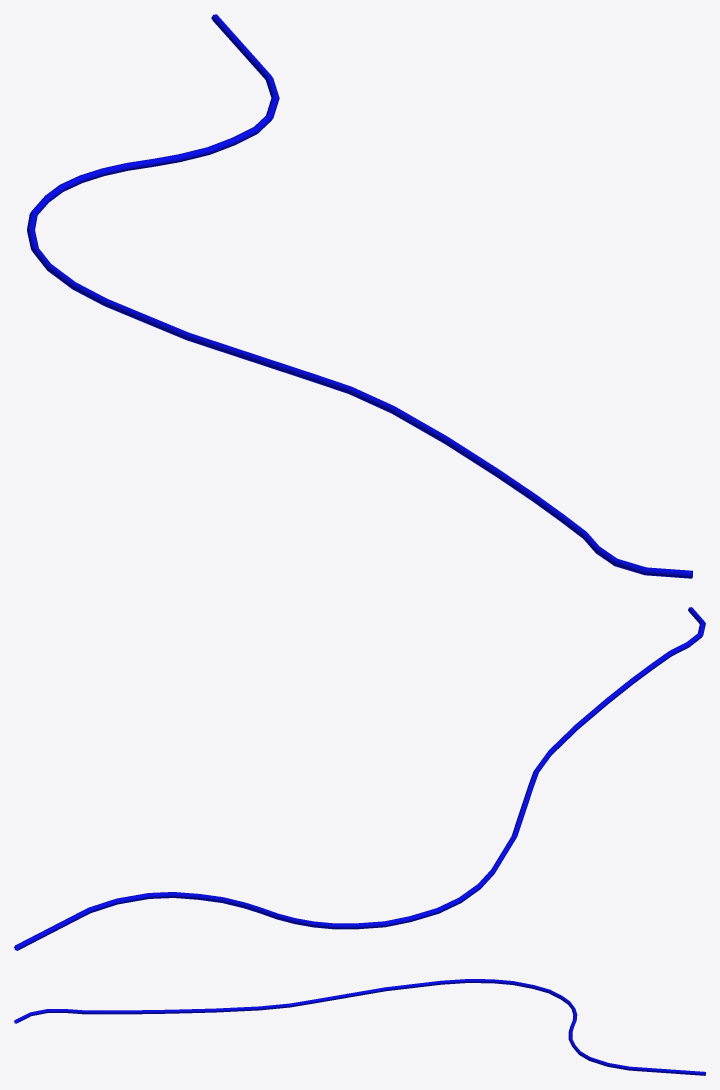
3 views of the same model, one above another, from view 1: azimuth 30°, elevation 25°; view 2: azimuth 150°, elevation 25°; view 3: azimuth 270°, elevation 25° (orthographic). The views are drawn at different scales.
Parts seen in each view (by area): view 1: FC_3; view 2: FC_3; view 3: FC_3.
Part boxes in pixels (left/top/right/bottom): FC_3: left=27, top=14, right=692, bottom=578; FC_3: left=14, top=607, right=705, bottom=950; FC_3: left=14, top=979, right=705, bottom=1075.
Bounding box in the file's own units: 67.29 × 1.05 × 208.
